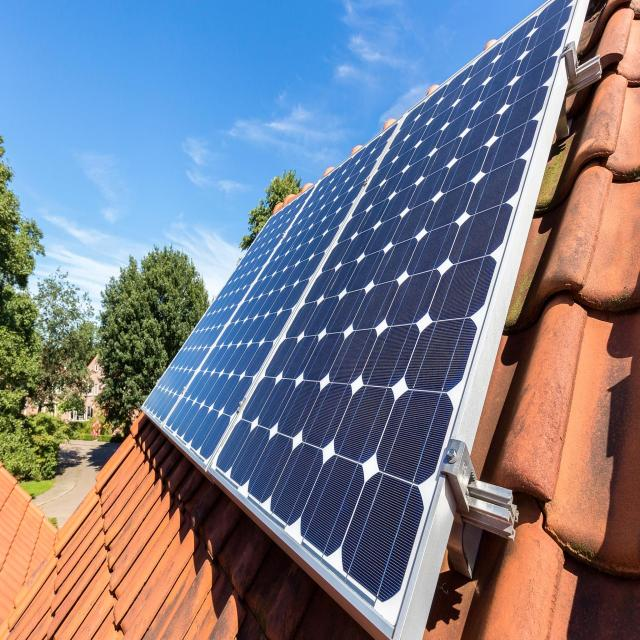clean-solar-panel: (142, 0, 588, 637)
